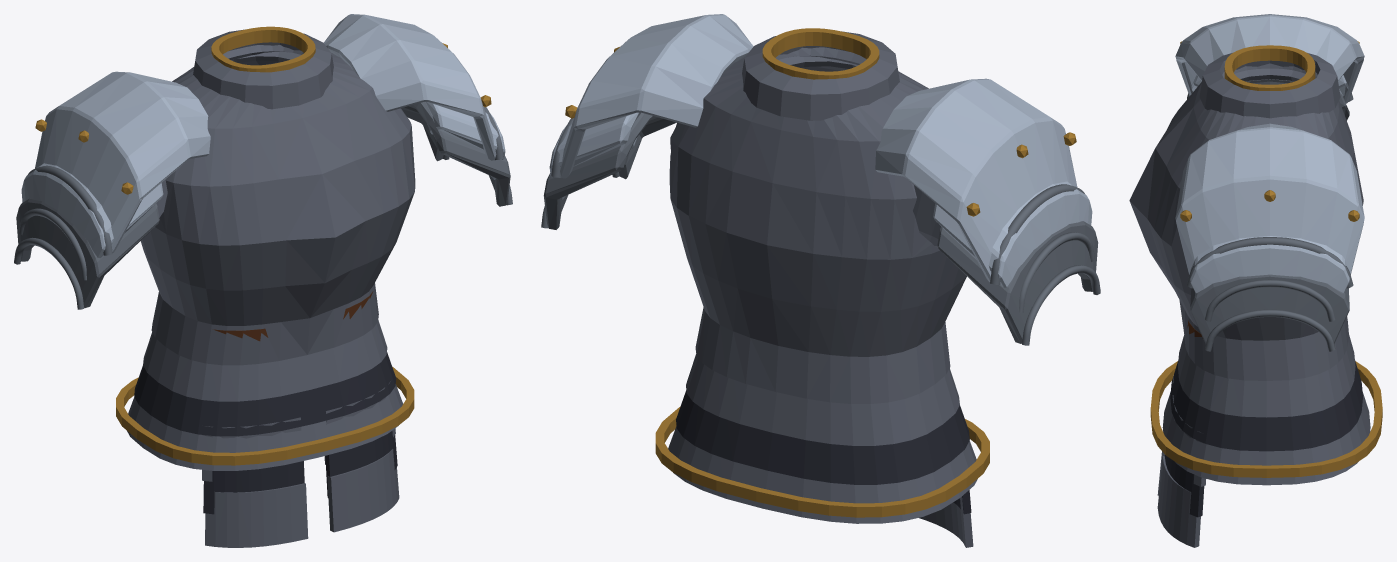
File: plate_armor.obj
The picture shows the model from 3 angles, left to right: view 1: azimuth 30°, elevation 25°; view 2: azimuth 150°, elevation 25°; view 3: azimuth 270°, elevation 25°; orthographic projection. The views are drawn at different scales.
Parts seen in each view (by area): view 1: A_Torso.001_plate_steel_engraved, K_CrowningShoulder.001_plate_armor_shoulder_shell, E_Tasset2.001_plate_steel, D_Fauld1.001_plate_steel_shade, D_Fauld0.001_plate_steel, K_OverlappingLame1.001_plate_armor_shoulder_overlap, D_Fauld2.001_plate_steel, H_Gorget.001_plate_steel, K_OverlappingLame0.001_plate_armor_shoulder_shell, B_HemTrim.001_plate_brass, E_Tasset1.001_plate_steel_shade, B_NeckTrim.001_plate_brass (+4 smaller); view 2: A_Torso.001_plate_steel_engraved, K_CrowningShoulder.001_plate_armor_shoulder_shell, D_Fauld1.001_plate_steel_shade, D_Fauld0.001_plate_steel, K_OverlappingLame1.001_plate_armor_shoulder_overlap, D_Fauld2.001_plate_steel, H_Gorget.001_plate_steel, K_OverlappingLame0.001_plate_armor_shoulder_shell, B_HemTrim.001_plate_brass, B_NeckTrim.001_plate_brass, K_RaisedLip.001_plate_armor_shoulder_overlap, K_LameLip1.001_plate_armor_shoulder_overlap (+2 smaller); view 3: K_CrowningShoulder.001_plate_armor_shoulder_shell, A_Torso.001_plate_steel_engraved, D_Fauld1.001_plate_steel_shade, D_Fauld0.001_plate_steel, H_Gorget.001_plate_steel, K_OverlappingLame1.001_plate_armor_shoulder_overlap, K_OverlappingLame0.001_plate_armor_shoulder_shell, D_Fauld2.001_plate_steel, B_HemTrim.001_plate_brass, B_NeckTrim.001_plate_brass, E_Tasset2.001_plate_steel, K_RaisedLip.001_plate_armor_shoulder_overlap (+3 smaller).
Part boxes in pixels (<box>): A_Torso.001_plate_steel_engraved: <box>140,45,415,365</box>; K_CrowningShoulder.001_plate_armor_shoulder_shell: <box>35,14,496,252</box>; E_Tasset2.001_plate_steel: <box>205,449,399,547</box>; D_Fauld1.001_plate_steel_shade: <box>134,352,396,436</box>; D_Fauld0.001_plate_steel: <box>143,320,387,401</box>; K_OverlappingLame1.001_plate_armor_shoulder_overlap: <box>16,102,510,307</box>; D_Fauld2.001_plate_steel: <box>127,384,402,470</box>; H_Gorget.001_plate_steel: <box>193,29,333,109</box>; K_OverlappingLame0.001_plate_armor_shoulder_shell: <box>21,102,505,258</box>; B_HemTrim.001_plate_brass: <box>116,367,414,465</box>; E_Tasset1.001_plate_steel_shade: <box>203,431,397,514</box>; B_NeckTrim.001_plate_brass: <box>211,26,315,72</box>; A_Torso.001_plate_steel_engraved: <box>669,47,966,403</box>; K_CrowningShoulder.001_plate_armor_shoulder_shell: <box>560,14,1077,281</box>; D_Fauld1.001_plate_steel_shade: <box>676,390,969,484</box>; D_Fauld0.001_plate_steel: <box>686,354,959,445</box>; K_OverlappingLame1.001_plate_armor_shoulder_overlap: <box>543,112,1098,343</box>; D_Fauld2.001_plate_steel: <box>668,426,977,523</box>; H_Gorget.001_plate_steel: <box>742,31,899,120</box>; K_OverlappingLame0.001_plate_armor_shoulder_shell: <box>549,112,1092,287</box>; B_HemTrim.001_plate_brass: <box>655,406,989,517</box>; B_NeckTrim.001_plate_brass: <box>762,28,879,79</box>; K_RaisedLip.001_plate_armor_shoulder_overlap: <box>551,118,1085,284</box>; K_LameLip1.001_plate_armor_shoulder_overlap: <box>541,172,1100,345</box>; K_CrowningShoulder.001_plate_armor_shoulder_shell: <box>1175,14,1364,274</box>; A_Torso.001_plate_steel_engraved: <box>1129,63,1363,380</box>; D_Fauld1.001_plate_steel_shade: <box>1170,360,1362,451</box>; D_Fauld0.001_plate_steel: <box>1178,335,1355,417</box>; H_Gorget.001_plate_steel: <box>1199,53,1340,118</box>; K_OverlappingLame1.001_plate_armor_shoulder_overlap: <box>1190,79,1349,343</box>; K_OverlappingLame0.001_plate_armor_shoulder_shell: <box>1190,75,1349,293</box>; D_Fauld2.001_plate_steel: <box>1162,392,1370,485</box>; B_HemTrim.001_plate_brass: <box>1150,361,1382,477</box>; B_NeckTrim.001_plate_brass: <box>1224,45,1315,90</box>; E_Tasset2.001_plate_steel: <box>1157,451,1200,547</box>; K_RaisedLip.001_plate_armor_shoulder_overlap: <box>1187,93,1353,288</box>.
Bounding box in the file's own units: 2.92 × 2.86 × 1.51.
